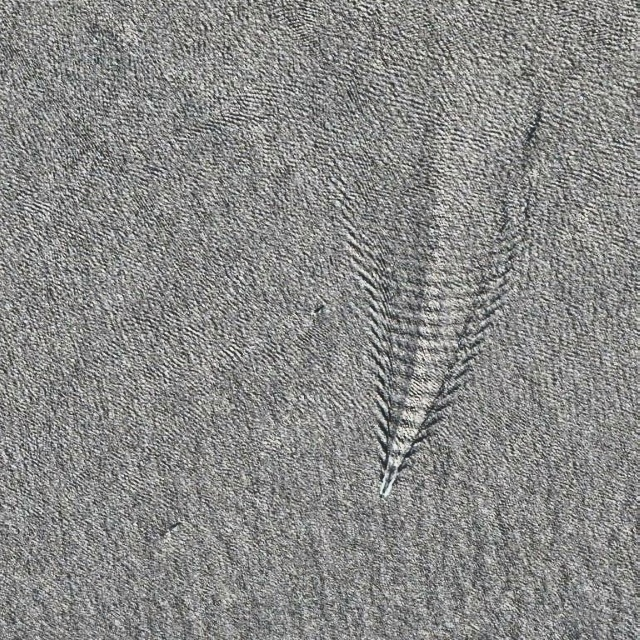wake: (313, 245, 514, 519)
